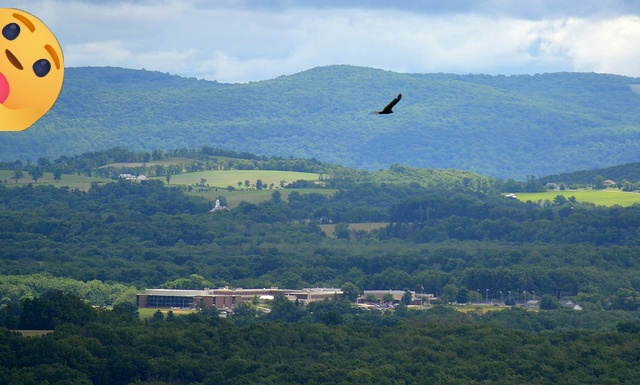care: (0, 8, 64, 131)
